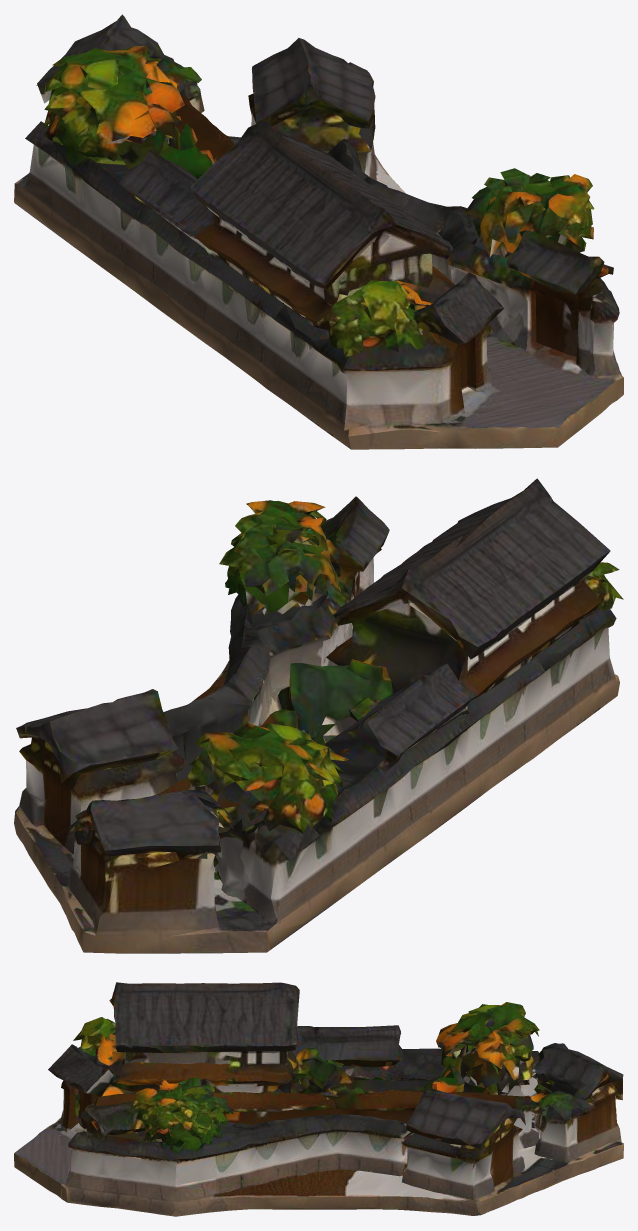
Rendered from hagi-castle-town.glb.
3 renders of one model, top to bottom at view 1: azimuth 30°, elevation 25°; view 2: azimuth 150°, elevation 25°; view 3: azimuth 270°, elevation 25°, orthographic. The views are drawn at different scales.
Visible parts, largest first — view 1: logan-textured.obj; view 2: logan-textured.obj; view 3: logan-textured.obj.
Boxes of the visible parts, x1,y1,x2,y2 form: logan-textured.obj: (14, 14, 623, 449); logan-textured.obj: (14, 478, 623, 953); logan-textured.obj: (14, 982, 623, 1216).
Bounding box in the file's own units: 0.4233 × 0.271 × 1.
1 material, 1 textured.
